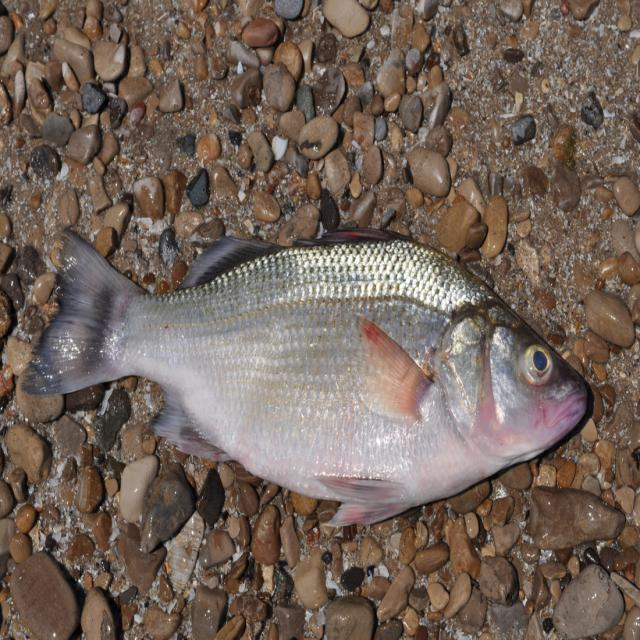Perch - White: (22, 229, 585, 525)
